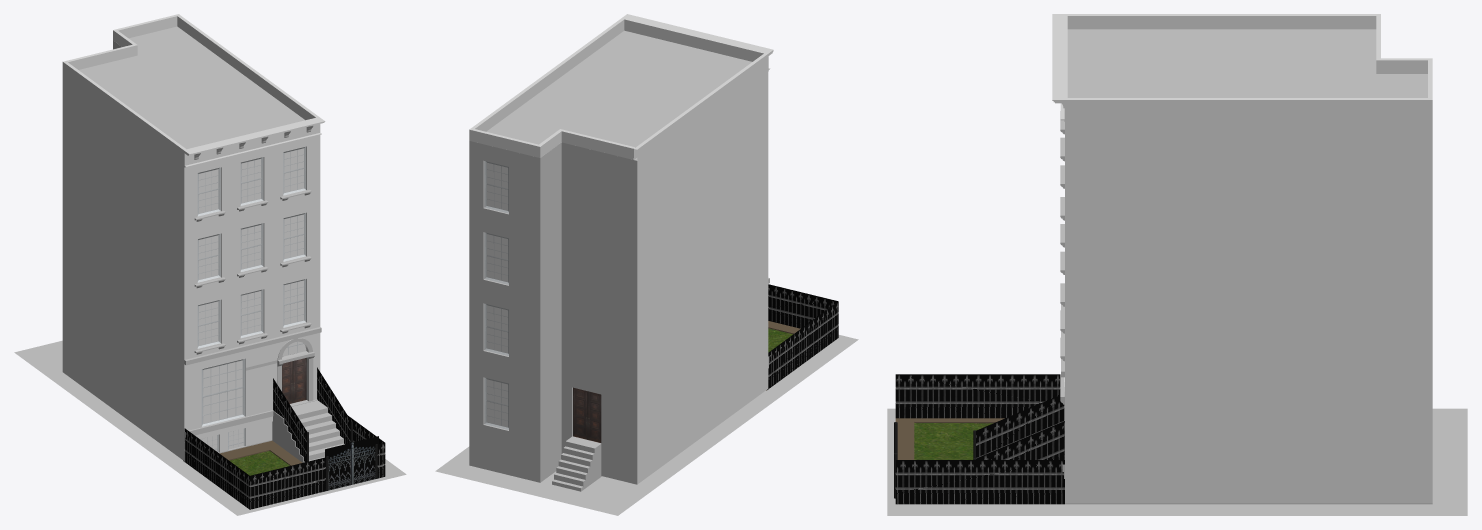
The model's file is uploads_files_2403210_Nyc_bu1.fbx.
3 views of the same model, side by side, from view 1: azimuth 30°, elevation 25°; view 2: azimuth 150°, elevation 25°; view 3: azimuth 270°, elevation 25° (orthographic). The views are drawn at different scales.
Parts seen in each view (by area): view 1: Nyc_b1, Nyc_b1_fence, Nyc_b1_fwindows, Nyc_b1_ground; view 2: Nyc_b1, Nyc_b1_ground, Nyc_b1_fence, Nyc_b1_bwindows; view 3: Nyc_b1, Nyc_b1_fence, Nyc_b1_ground.
Part boxes in pixels (bbox=[...]): Nyc_b1: bbox=[62, 14, 325, 461]; Nyc_b1_fence: bbox=[183, 367, 385, 509]; Nyc_b1_fwindows: bbox=[197, 146, 306, 452]; Nyc_b1_ground: bbox=[14, 340, 406, 515]; Nyc_b1: bbox=[469, 14, 773, 491]; Nyc_b1_ground: bbox=[435, 335, 858, 515]; Nyc_b1_fence: bbox=[766, 284, 838, 390]; Nyc_b1_bwindows: bbox=[484, 161, 508, 429]; Nyc_b1: bbox=[1052, 14, 1432, 504]; Nyc_b1_fence: bbox=[894, 374, 1064, 504]; Nyc_b1_ground: bbox=[887, 408, 1467, 515].
Bounding box in the file's own units: 904 × 1593 × 2063.
